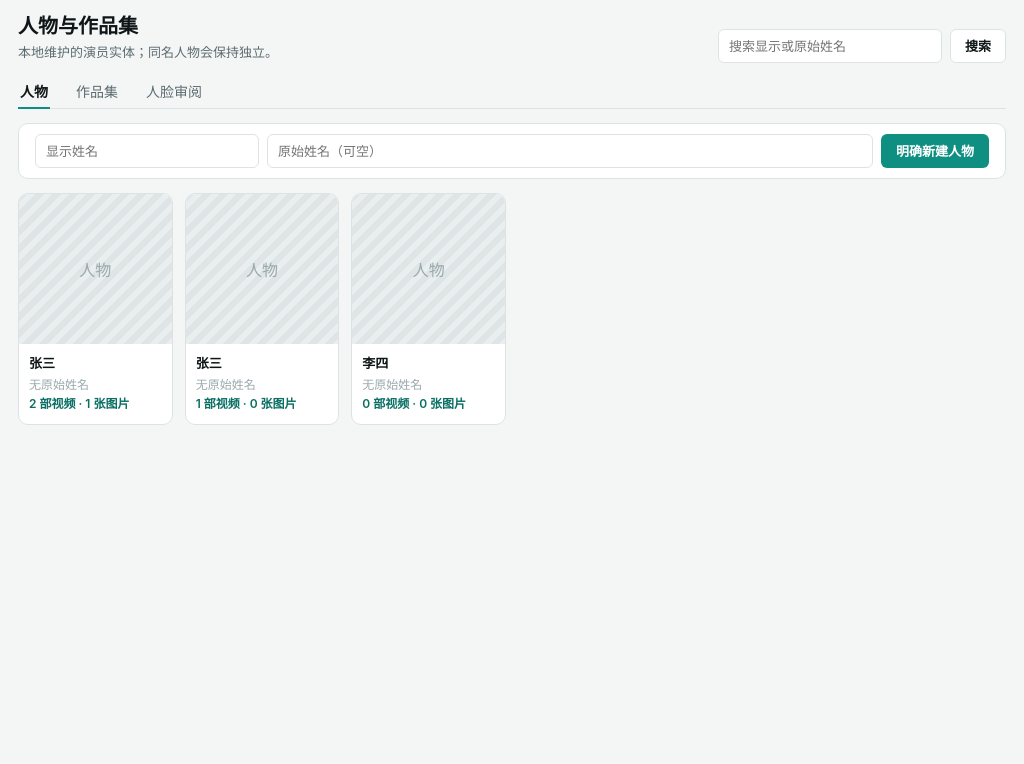
Scenario: EntityLibraryPage 人物合并与删除 › META-03 explains invalid_merge and keeps the panel open
Click the button with class "entity-card" showing "人物 张三 无原始姓名 2 部视频 · 1 张图片".
click(95, 308)  # box [18,192,173,424]
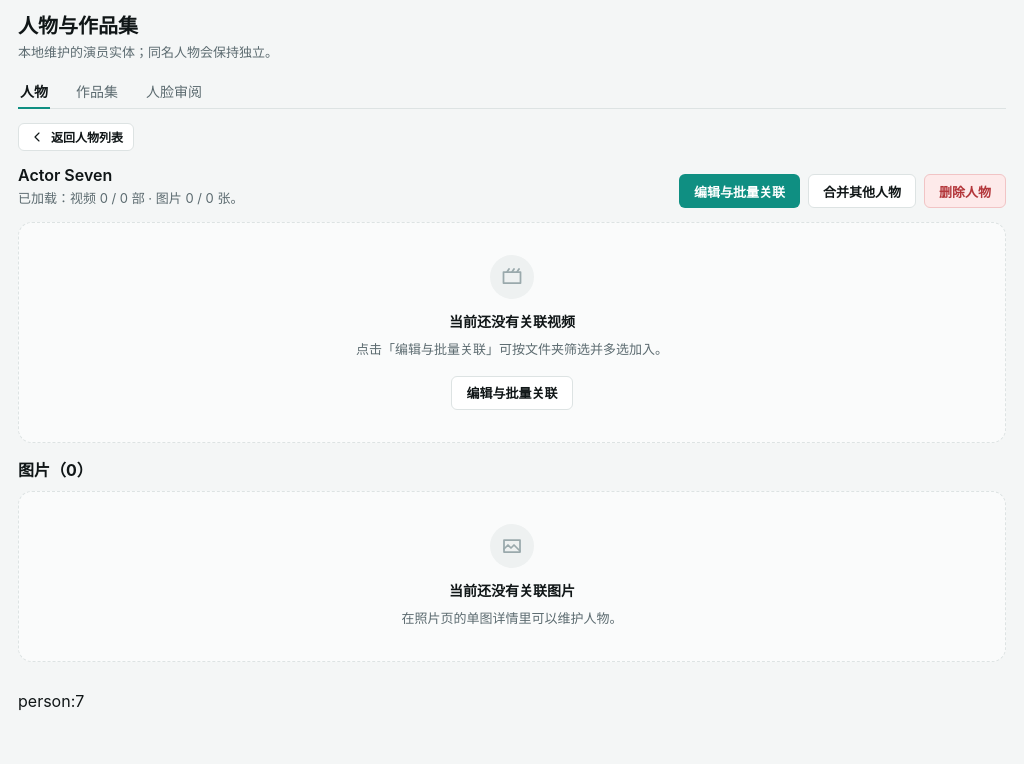
Click the button with test id "person-merge-open".
click(862, 191)  # box [808,174,916,208]
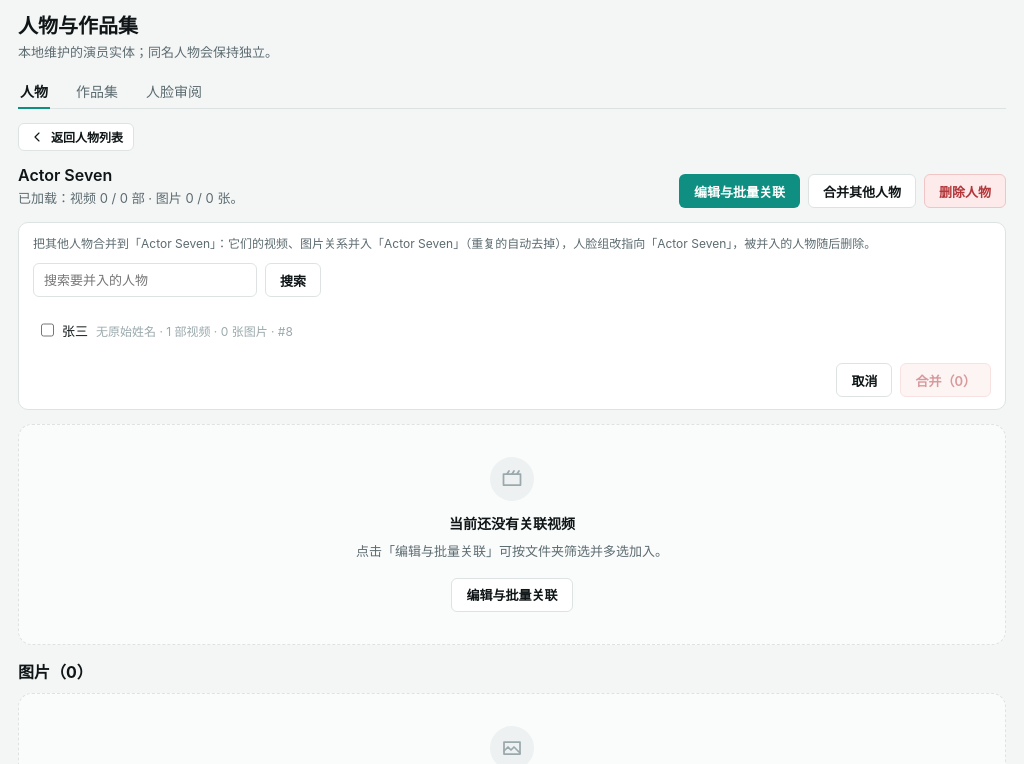
Click the checkbox labelled "张三 无原始姓名 · 1 部视频 · 0 张图片 · #8".
click(48, 330)  # box [41,313,54,347]
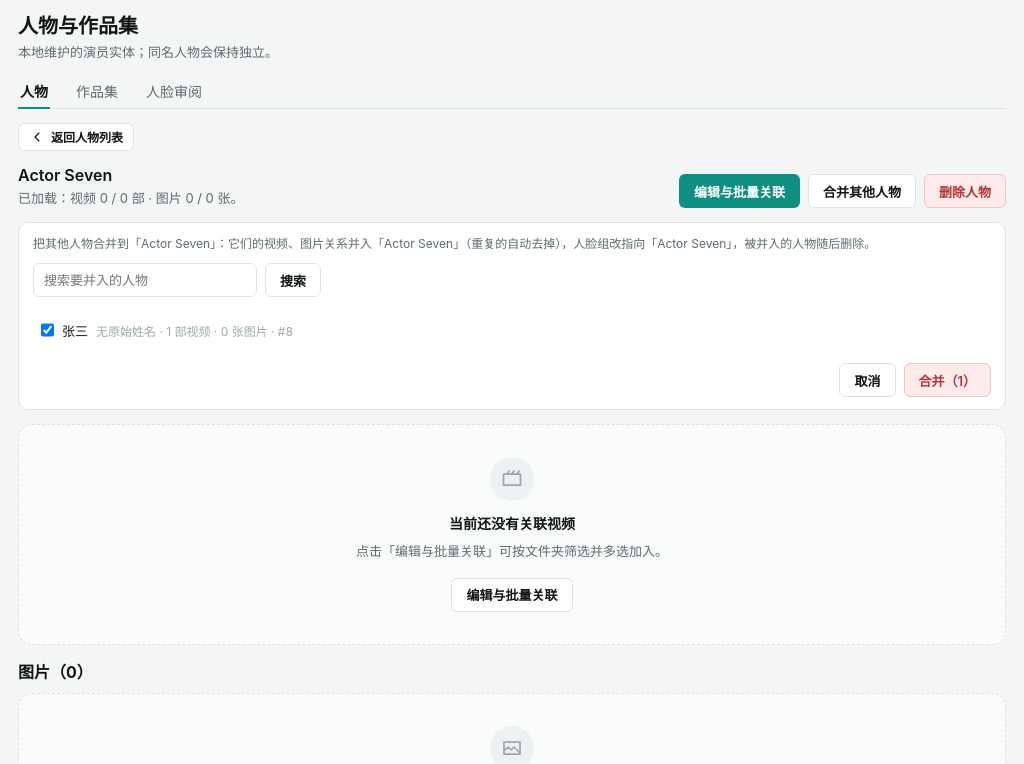
Click the button with test id "person-merge-submit".
click(947, 380)  # box [904,363,991,397]
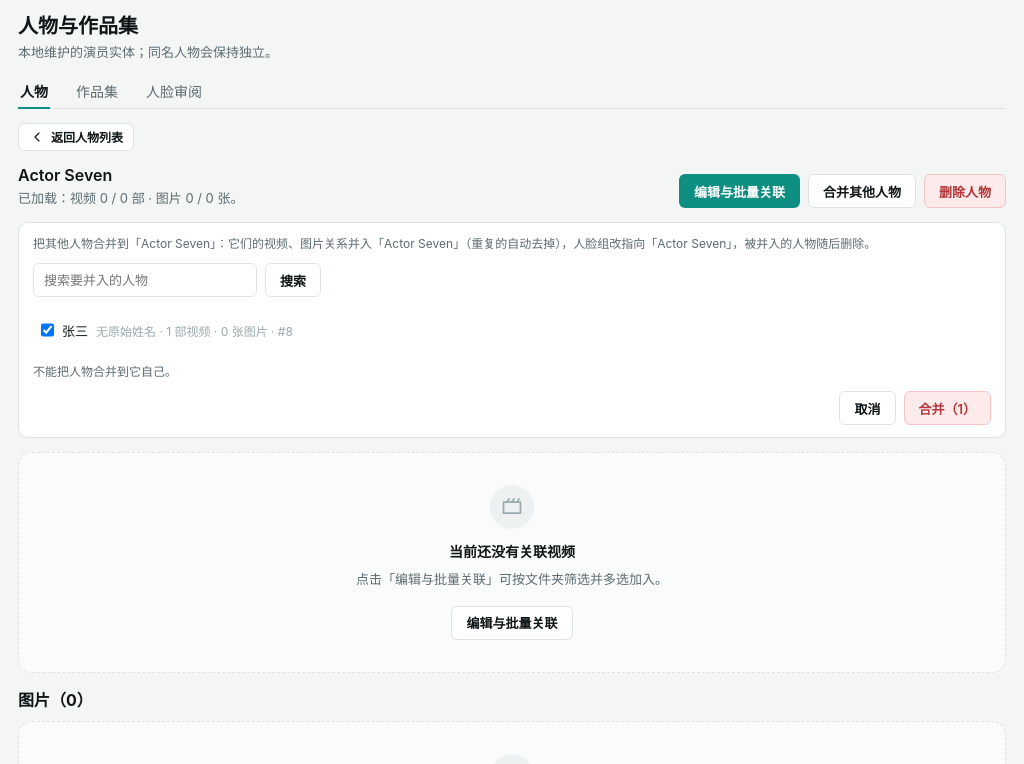
Check: the element with test id "person-merge-panel" shows "不能把人物合并到它自己", box [33,364,177,379]
